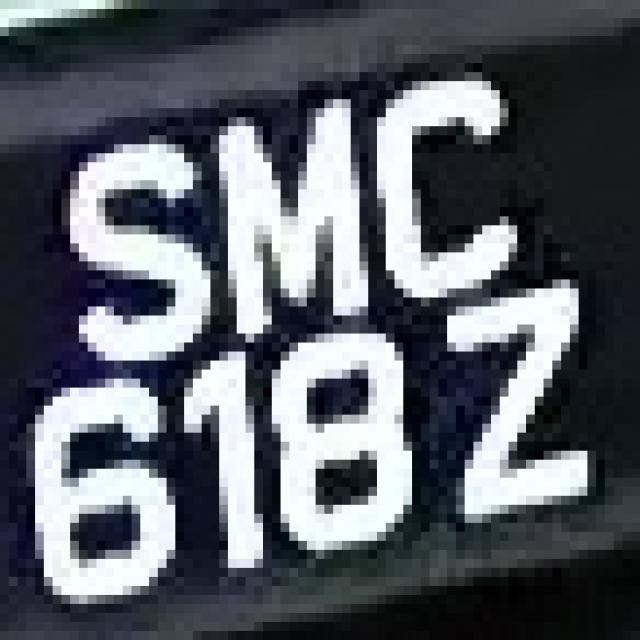1: (193, 297, 272, 604)
6: (17, 352, 193, 631)
8: (263, 297, 421, 595)
C: (333, 54, 535, 316)
M: (175, 81, 368, 352)
S: (61, 126, 210, 406)
Z: (421, 261, 605, 523)
